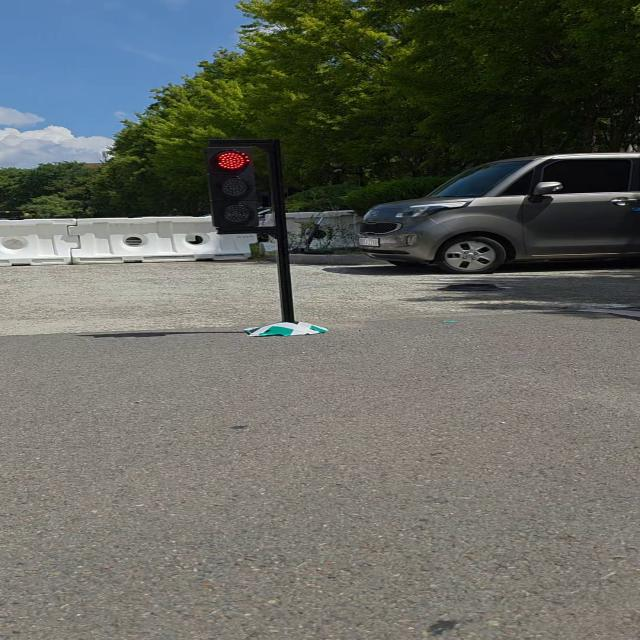red: (202, 143, 272, 237)
